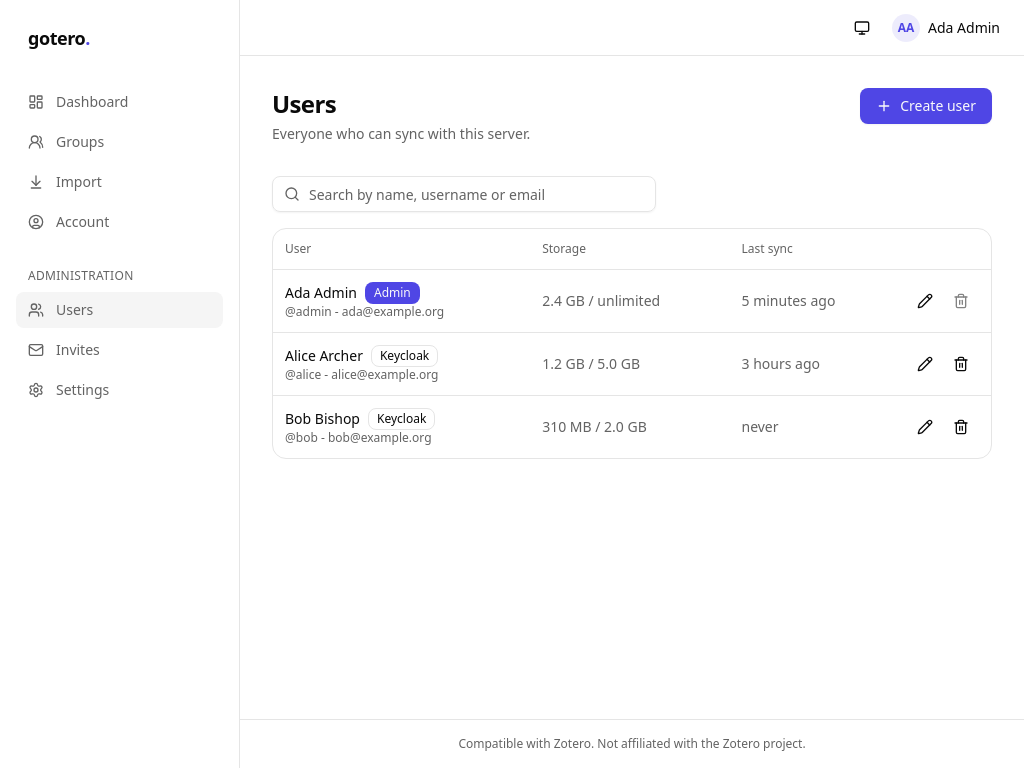
admin users › edits a user from the sheet
Click the button named "Edit bob" at (925, 426), box [907,408,943,444]
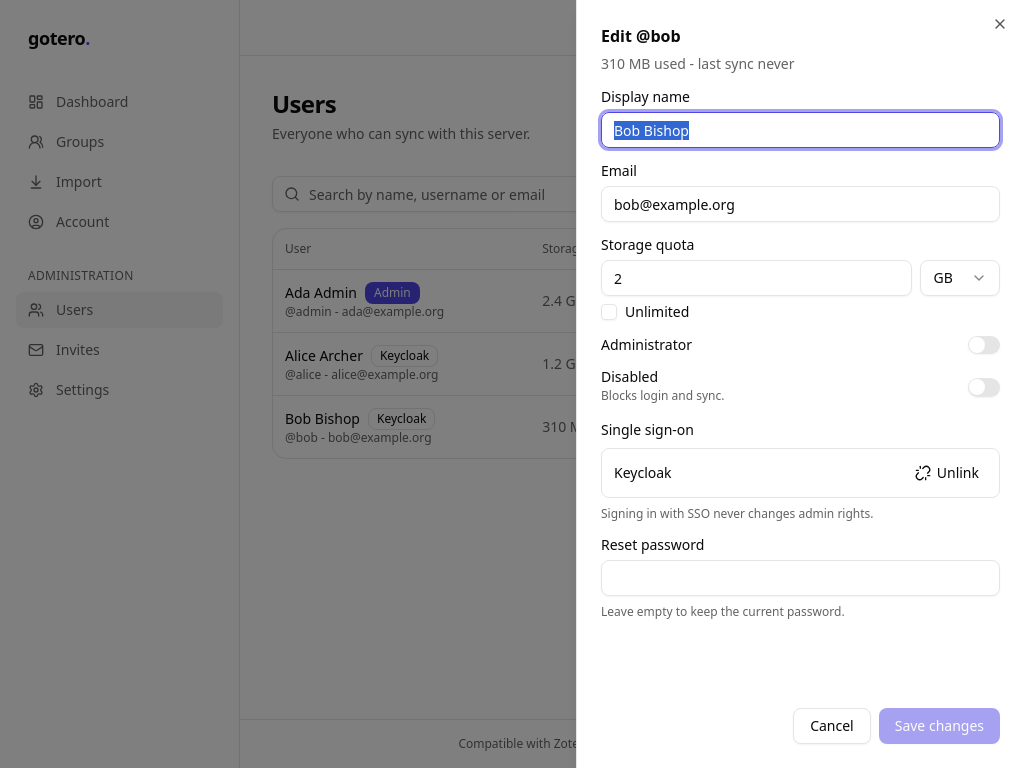
Replace the text in the field labelled "Display name" with "Robert Bishop" at (800, 130), box [601,112,1000,148]
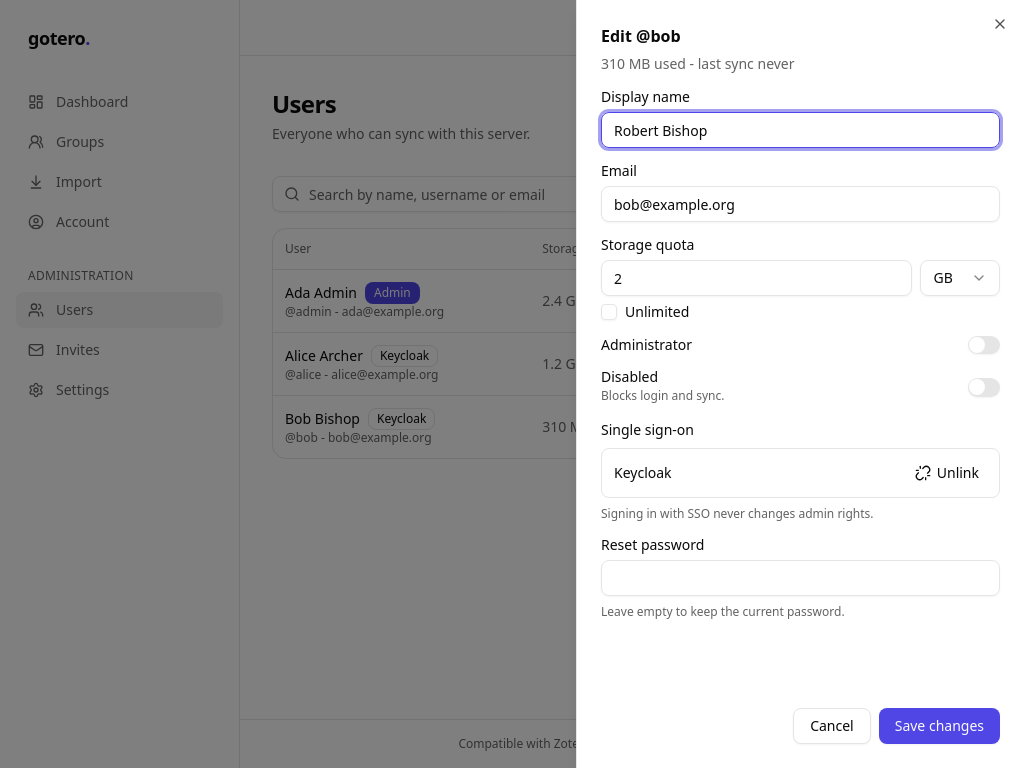
Click the switch named "disabled" in the row of "Blocks login and sync." at (984, 387), box [968,378,1000,397]
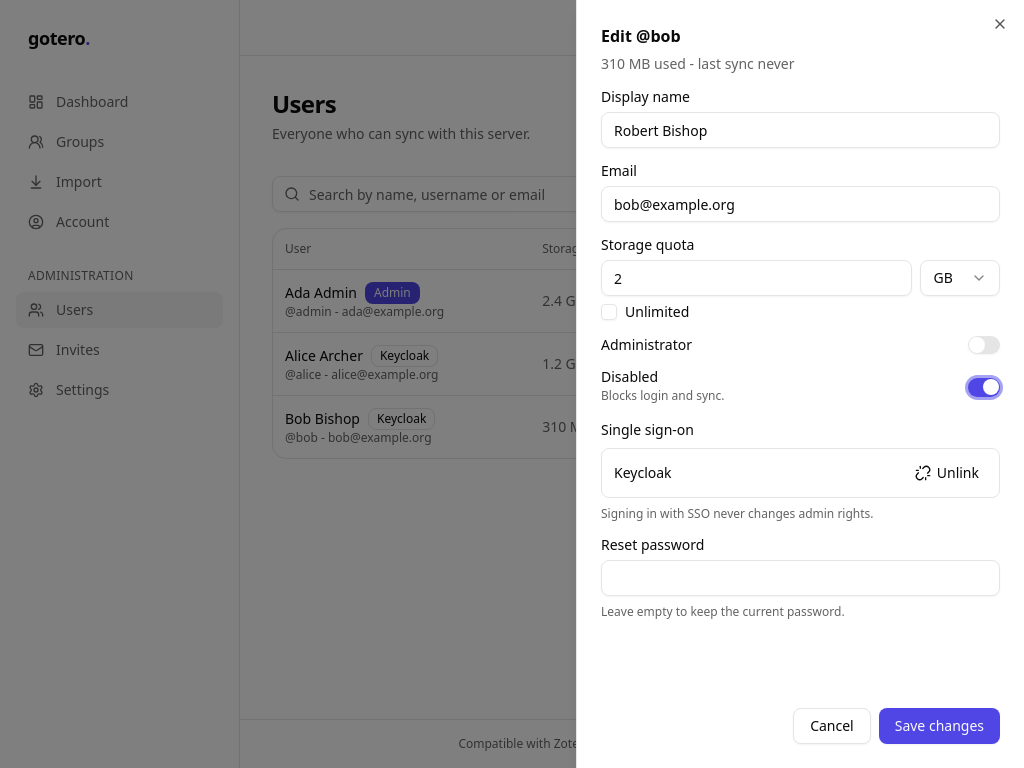
Click the button "Save changes" at (939, 726), box [879,708,1000,744]
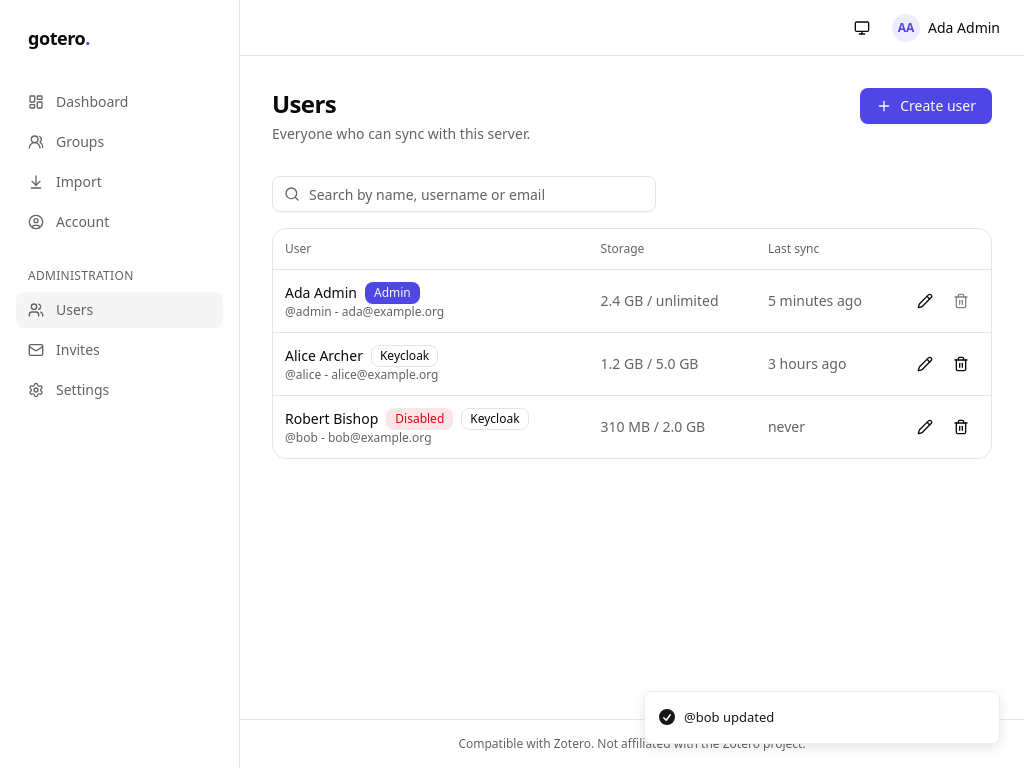
Expected: the text "Robert Bishop" is shown, [285,408,378,428]
